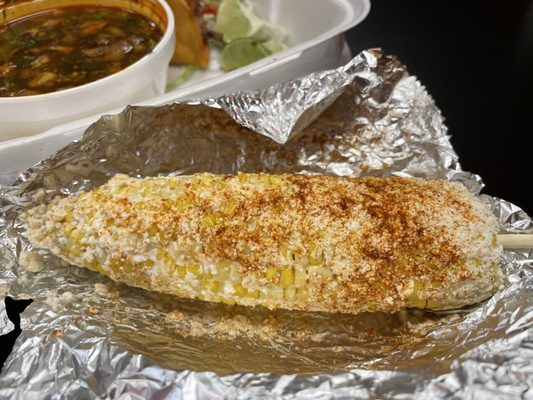sushi: (0, 0, 176, 141)
